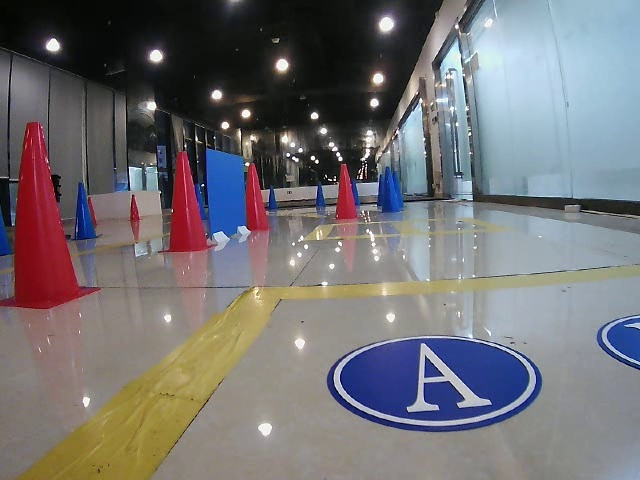A: (324, 335, 540, 429)
